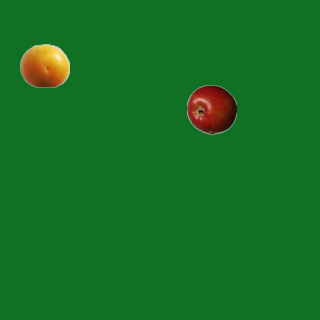Apple Braeburn: (186, 84, 236, 134)
Cherry Wax Yellow: (19, 40, 69, 90)
